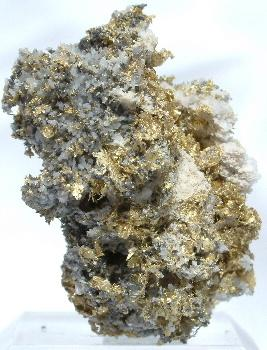gold: (71, 6, 261, 342), (3, 51, 64, 160), (171, 80, 230, 108), (62, 256, 88, 318), (90, 277, 120, 296), (77, 242, 104, 258)
